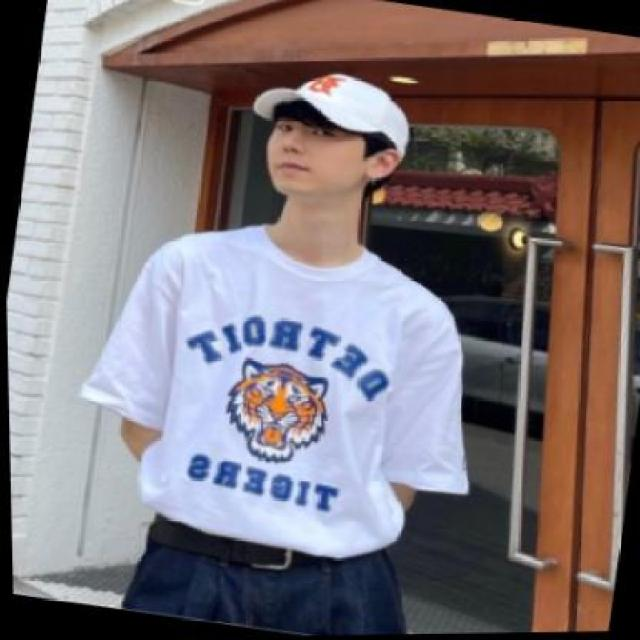hat: (244, 61, 419, 159)
